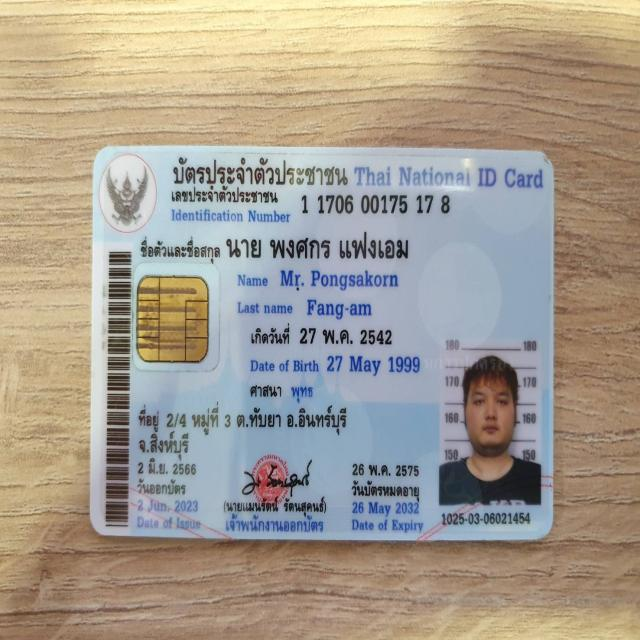Address_th: (130, 399, 350, 463)
Date_of_Birth: (322, 348, 426, 384)
Date_of_Expiry: (348, 497, 424, 519)
Date_of_Issue: (135, 493, 204, 516)
First_Name: (275, 263, 403, 294)
ID_Number: (295, 188, 457, 222)
Image: (437, 337, 541, 506)
Last_Name: (301, 295, 379, 325)
Thai_Name: (223, 224, 420, 263)
